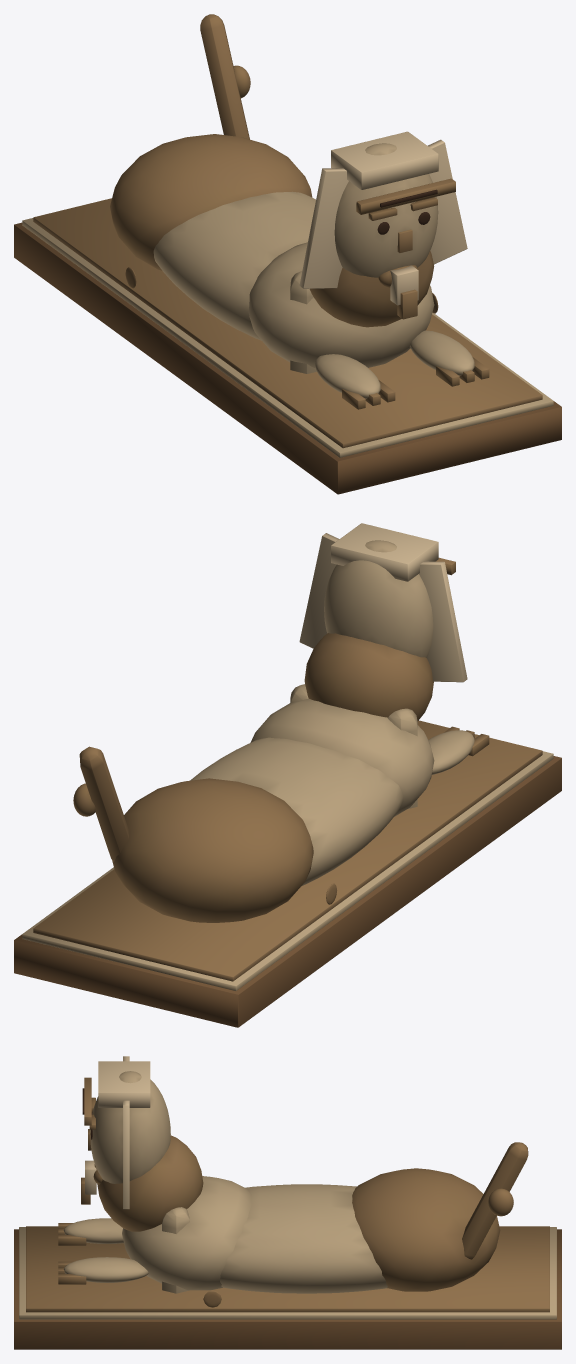
File: sphinx.glb
3 views of the same model, one above another, from view 1: azimuth 30°, elevation 25°; view 2: azimuth 150°, elevation 25°; view 3: azimuth 270°, elevation 25° (orthographic). The views are drawn at different scales.
Parts seen in each view (by area): view 1: sphinx; view 2: sphinx; view 3: sphinx.
Boxes of the visible parts, box(x1,y1,x2,y2) form: sphinx: box(14, 14, 561, 494); sphinx: box(14, 523, 561, 1027); sphinx: box(14, 1056, 561, 1349).
Bounding box in the file's own units: 6.4 × 7.37 × 16.
